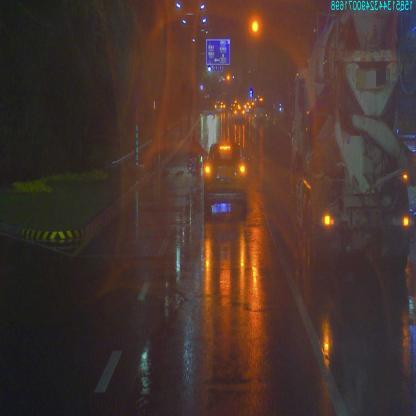traffic-light: (249, 16, 263, 37)
